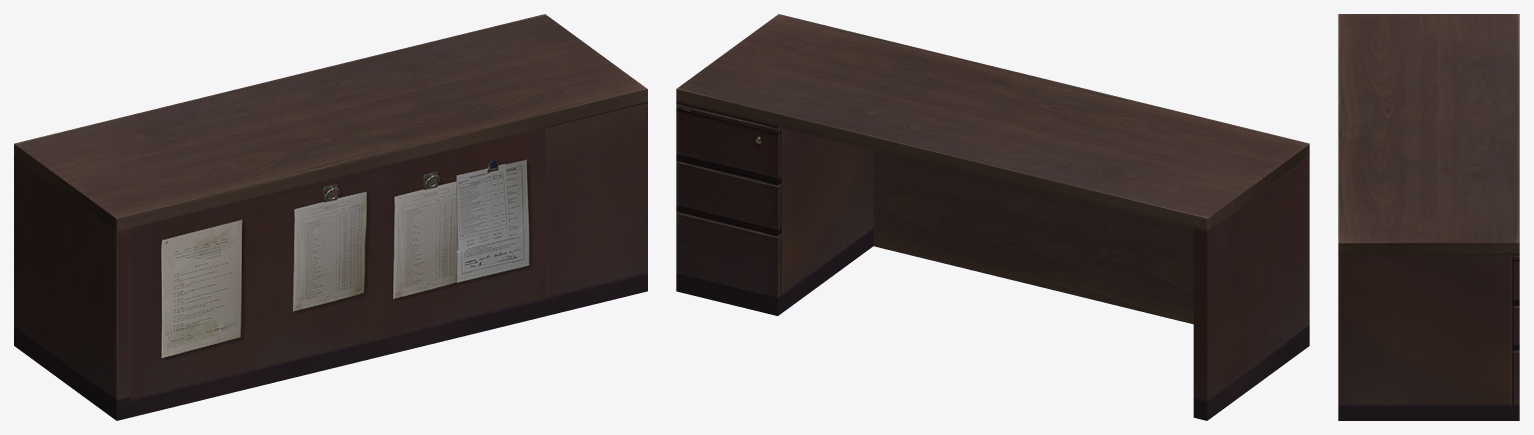
Rendered from Furniture03.FBX.
The picture shows the model from 3 angles, left to right: view 1: azimuth 30°, elevation 25°; view 2: azimuth 150°, elevation 25°; view 3: azimuth 270°, elevation 25°; orthographic projection. The views are drawn at different scales.
Visible parts, largest first — view 1: Furniture03; view 2: Furniture03; view 3: Furniture03.
Part boxes in pixels (<box>): Furniture03: <box>14,14,647,420</box>; Furniture03: <box>676,14,1309,420</box>; Furniture03: <box>1338,14,1519,420</box>.
Size of the model in its own units: 2.03 by 0.7384 by 0.6788.
